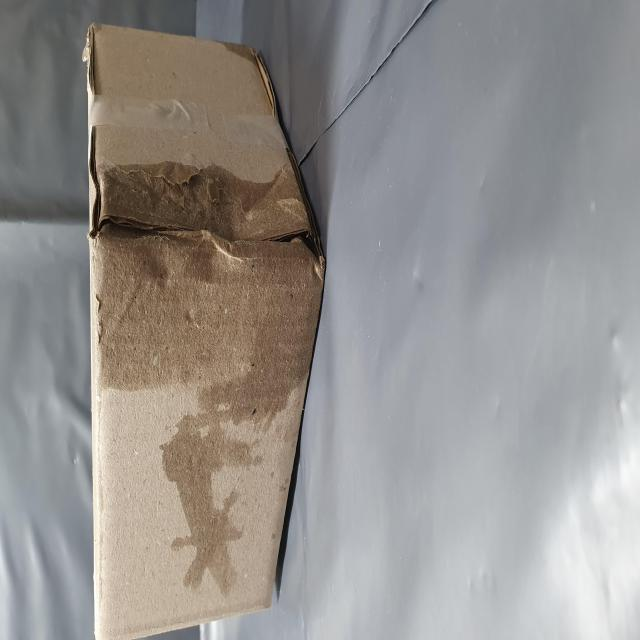wet: (108, 168, 290, 611)
